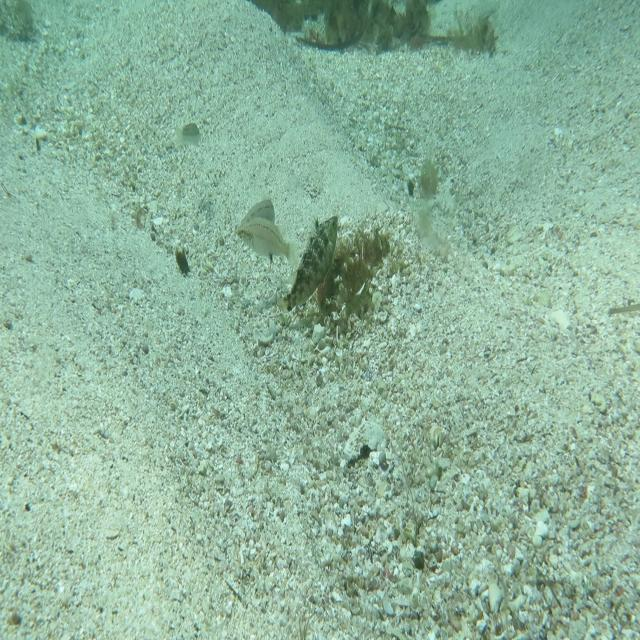Coris_julis_female: (172, 110, 208, 164)
ROLL: (272, 212, 344, 324)
female: (234, 190, 277, 245)
nest: (306, 224, 402, 340)
other_fish: (236, 212, 301, 274)
